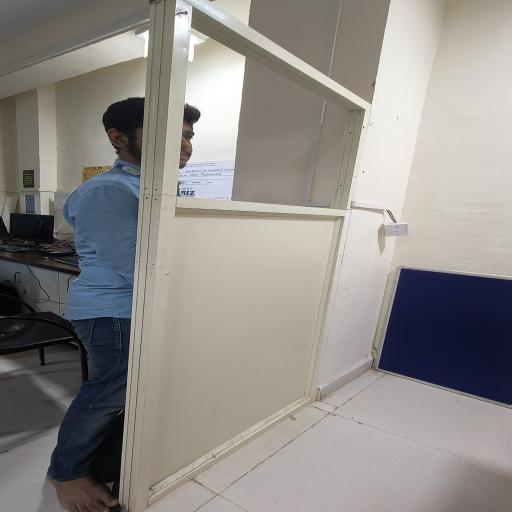survivor: (45, 97, 201, 512)
